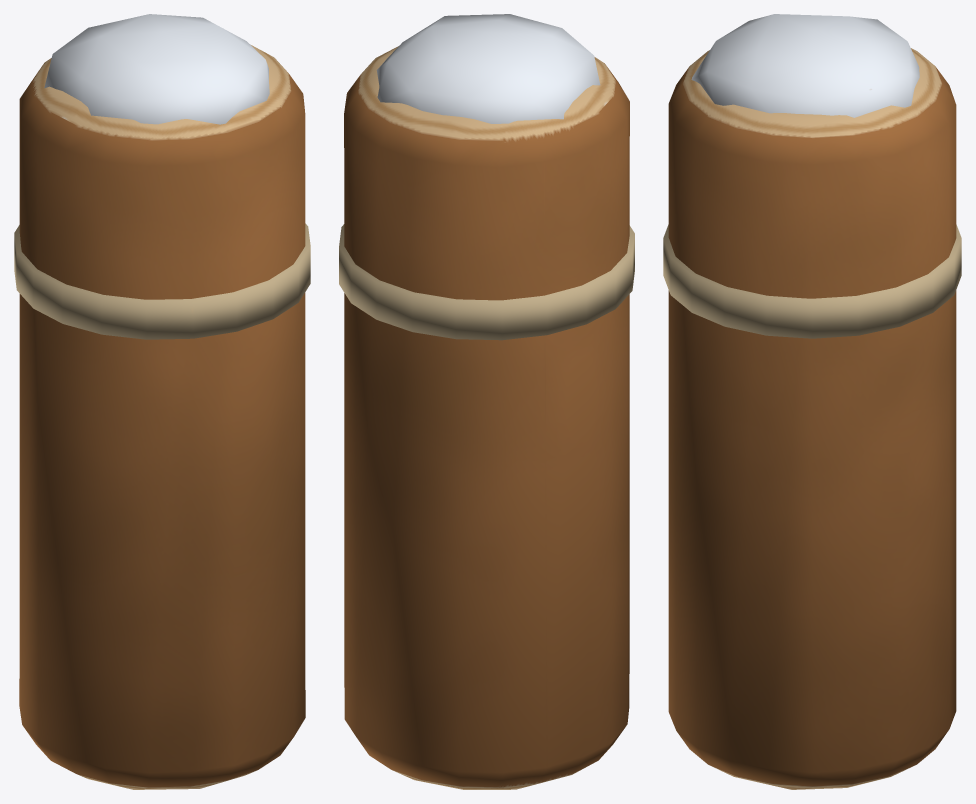
The model's file is fence_post.glb.
3 views of the same model, side by side, from view 1: azimuth 30°, elevation 25°; view 2: azimuth 150°, elevation 25°; view 3: azimuth 270°, elevation 25° (orthographic).
Visible parts, largest first — view 1: band; view 2: band; view 3: band.
Boxes of the visible parts, box(x1,y1,x2,y2) form: band: box(14, 14, 310, 789); band: box(339, 14, 634, 789); band: box(663, 14, 961, 789).
Bounding box in the file's own units: 0.43 × 1.14 × 0.43.
Materials: 1 (1 with a texture image).
